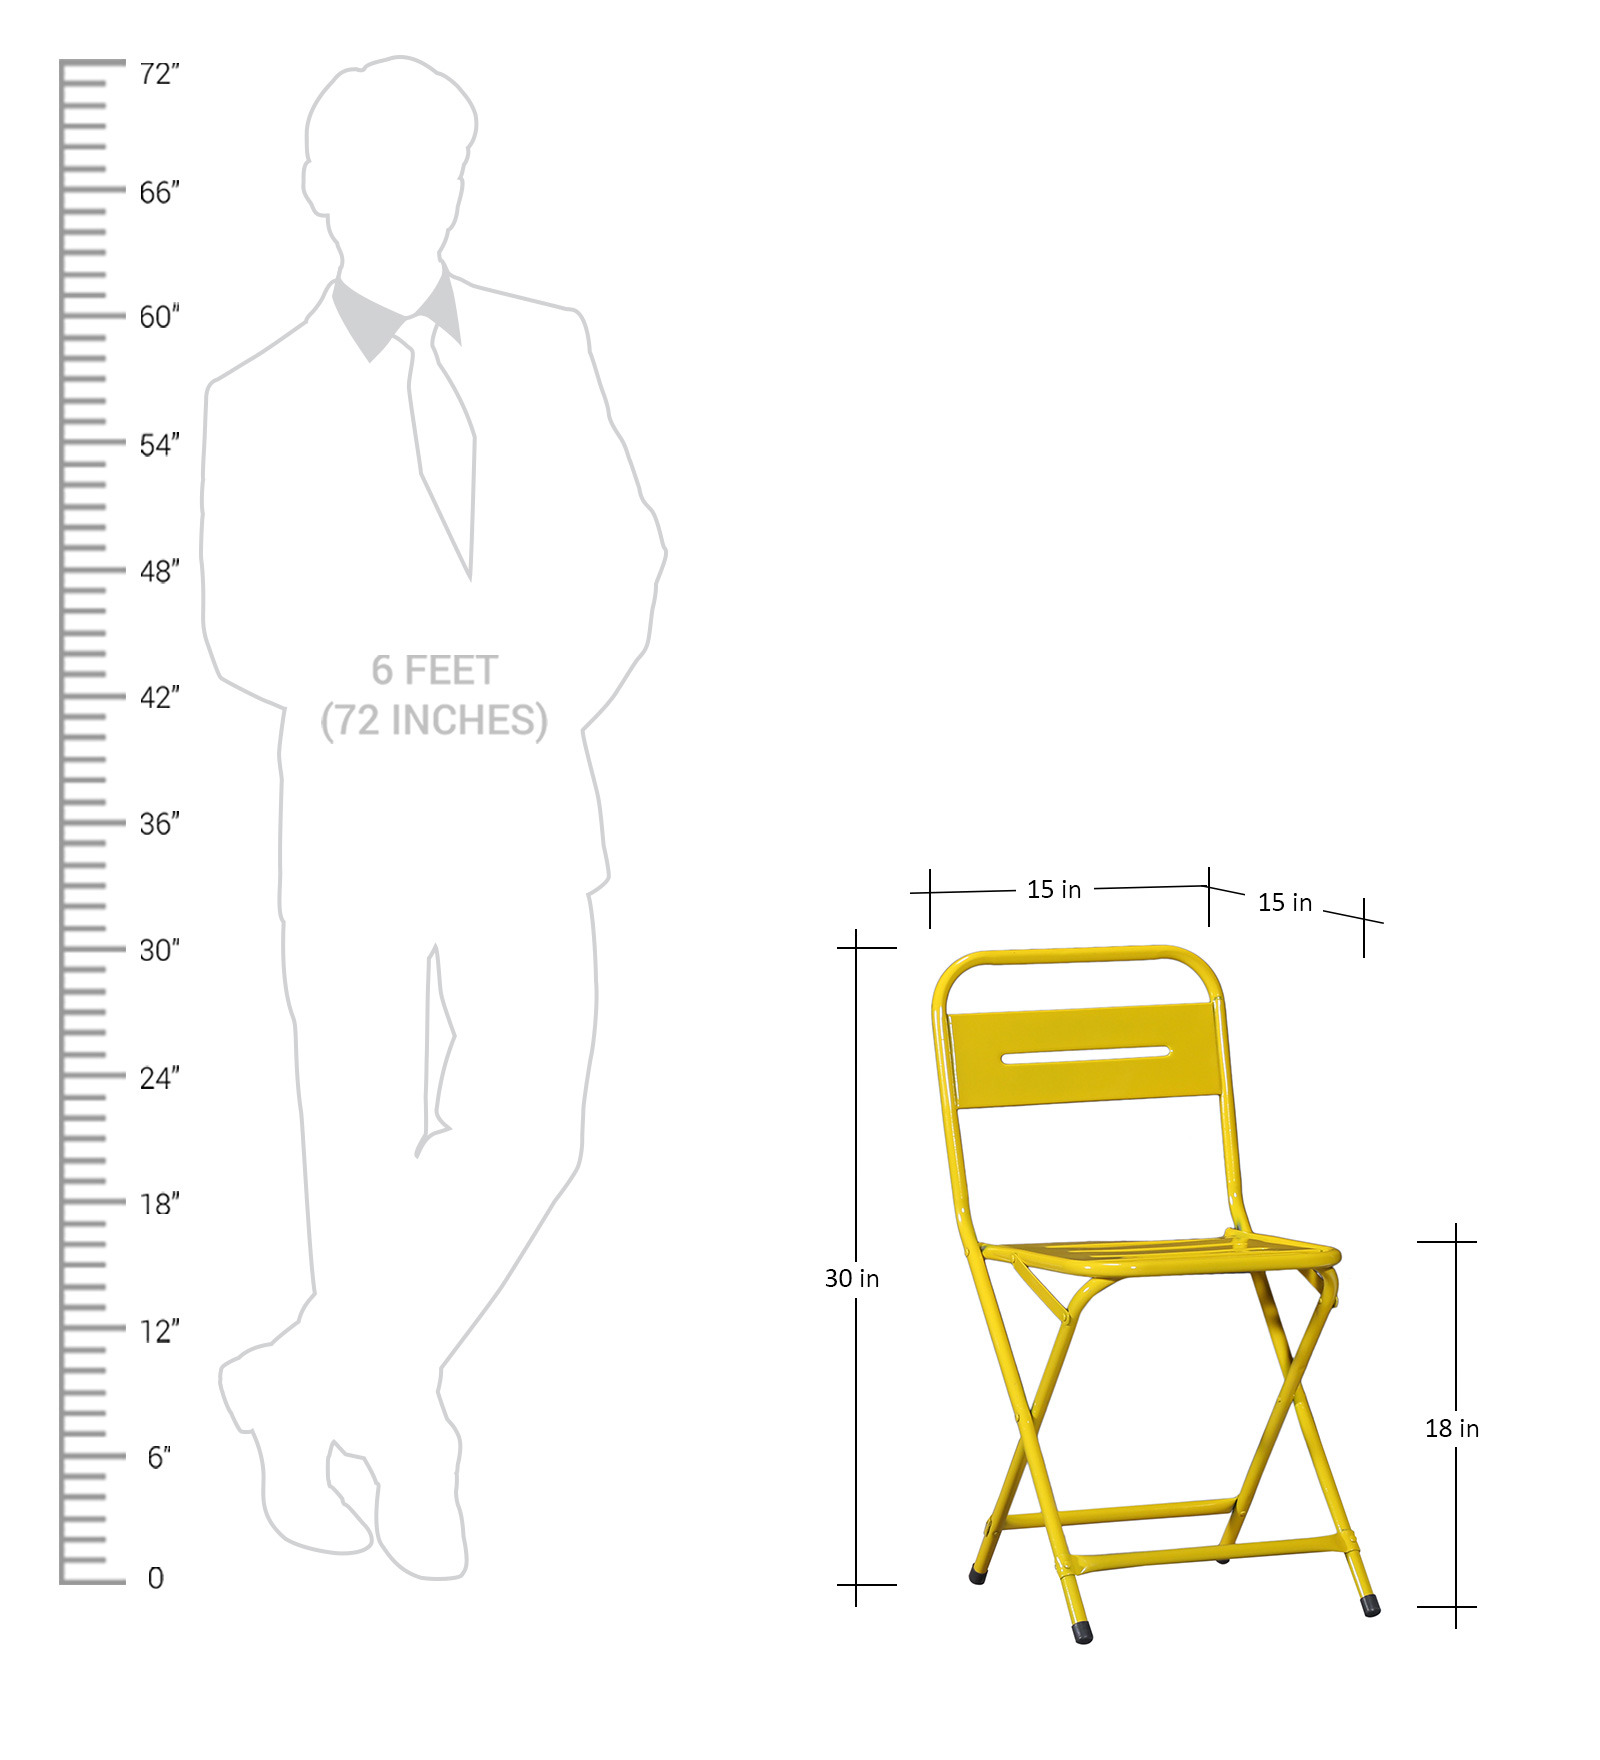Marandoo Grunge Outdoor Folding Chair in Yellow Colour by Bohemiana: (929, 932, 1390, 1643)
